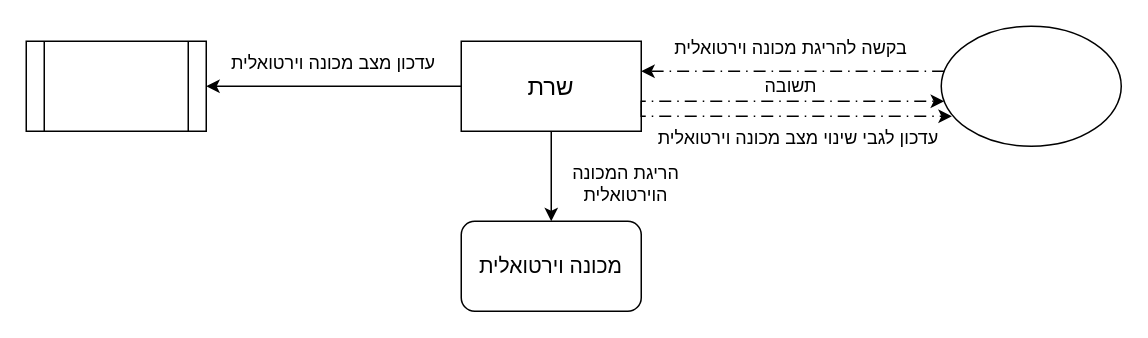
The diagram is 1148 pixels wide and 338 high, and some of its shapes have lost their labels. The centre of each missing label's shape, as x and y in pixels:
"לקוח" belongs at point 1030,85.
"מסד נתונים" belongs at point 115,85.
